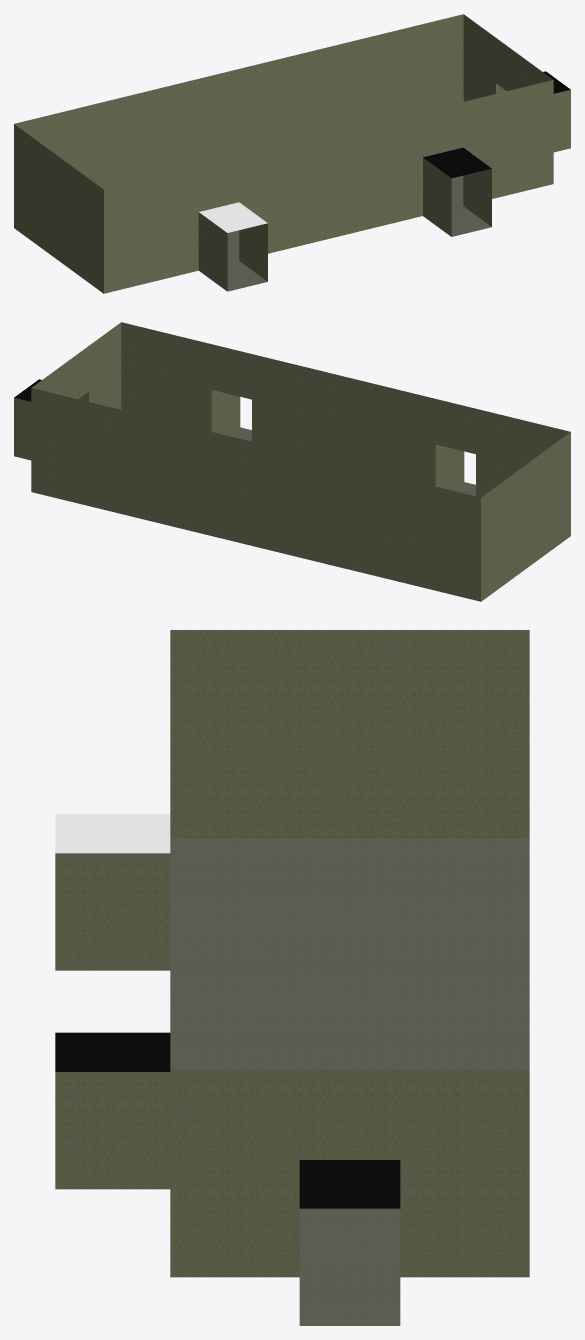
Rendered from ROOM_Left.fbx.
The picture shows the model from 3 angles, top to bottom: view 1: azimuth 30°, elevation 25°; view 2: azimuth 150°, elevation 25°; view 3: azimuth 270°, elevation 25°; orthographic projection. The views are drawn at different scales.
Visible parts, largest first — view 1: ROOM_Left; view 2: ROOM_Left; view 3: ROOM_Left.
Boxes of the visible parts, <box> form: ROOM_Left: <box>14,14,570,293</box>; ROOM_Left: <box>14,322,570,601</box>; ROOM_Left: <box>55,630,529,1325</box>.
Bounding box in the file's own units: 8025 × 1600 × 3300.
